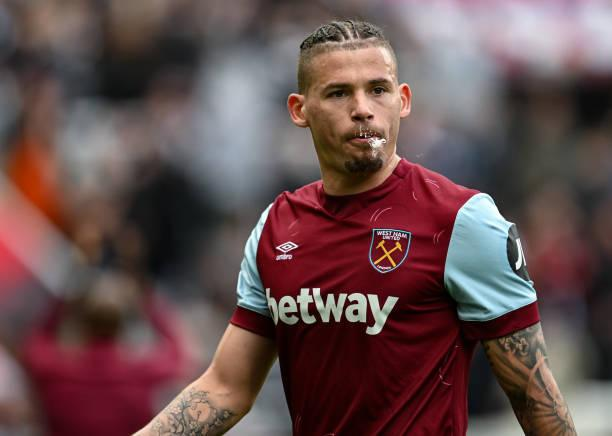Spitting: (284, 5, 418, 197)
